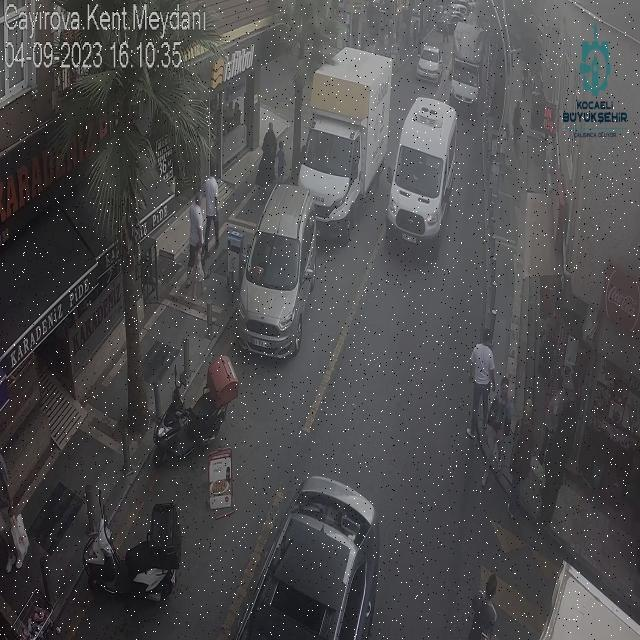Car: (231, 471, 386, 640), (238, 183, 318, 359), (418, 45, 443, 87)
Cycle: (80, 486, 184, 610), (146, 352, 242, 469)
Truck: (301, 44, 393, 242), (449, 22, 488, 119)
Van: (383, 95, 456, 254)
